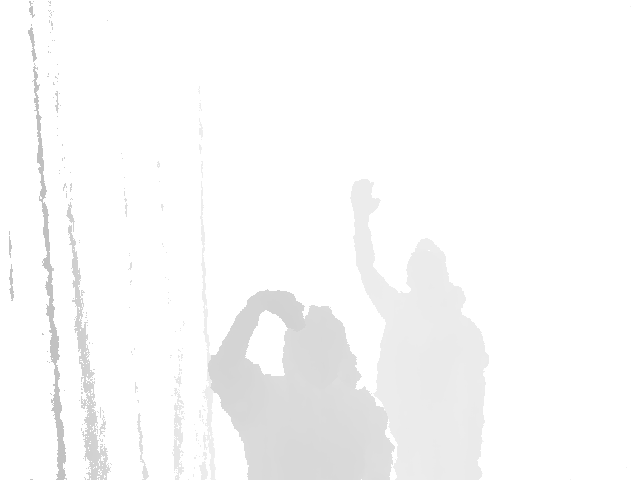hand: (350, 178, 383, 216)
head: (282, 305, 352, 386), (406, 237, 448, 292)
person: (349, 178, 490, 479), (206, 288, 396, 480)
